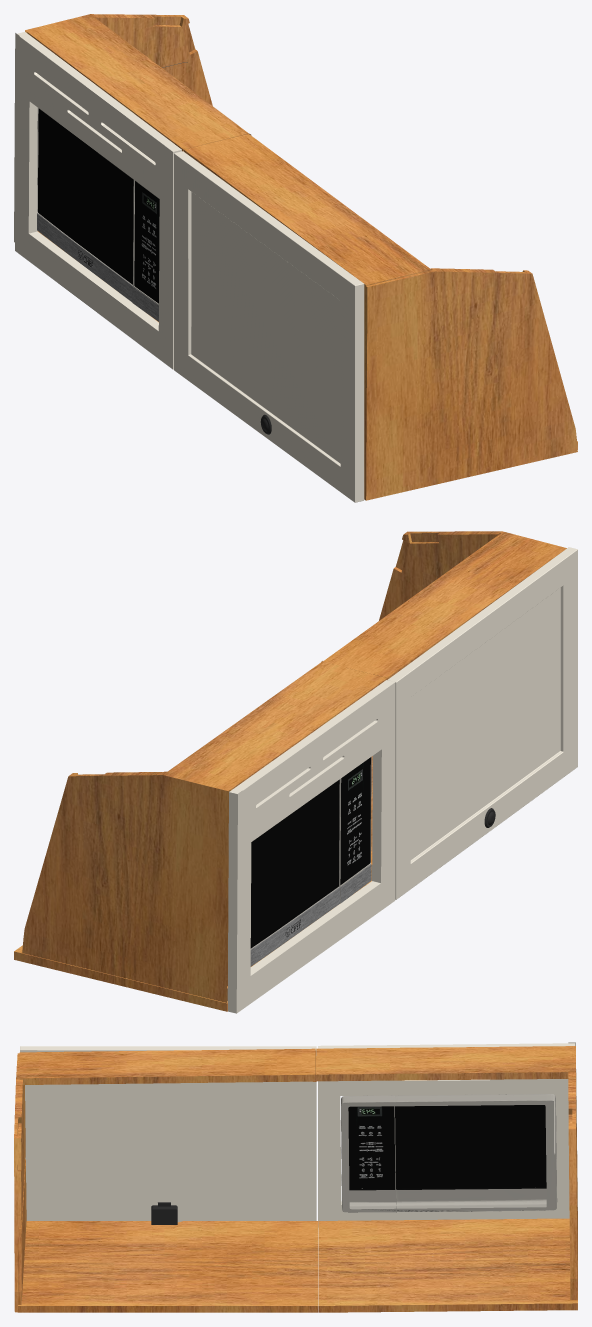
File: upper-cabinet-one.glb
3 renders of one model, top to bottom at view 1: azimuth 30°, elevation 25°; view 2: azimuth 150°, elevation 25°; view 3: azimuth 270°, elevation 25°, orthographic. The views are drawn at different scales.
Visible parts, largest first — view 1: Document.004; view 2: Document.004; view 3: Document.004.
Boxes of the visible parts, bbox=[...] form: Document.004: bbox=[14, 14, 577, 502]; Document.004: bbox=[14, 531, 577, 1013]; Document.004: bbox=[14, 1042, 577, 1312].
Bounding box in the file's own units: 0.4265 × 0.4036 × 1.13.
Materials: 4 (2 with a texture image).
